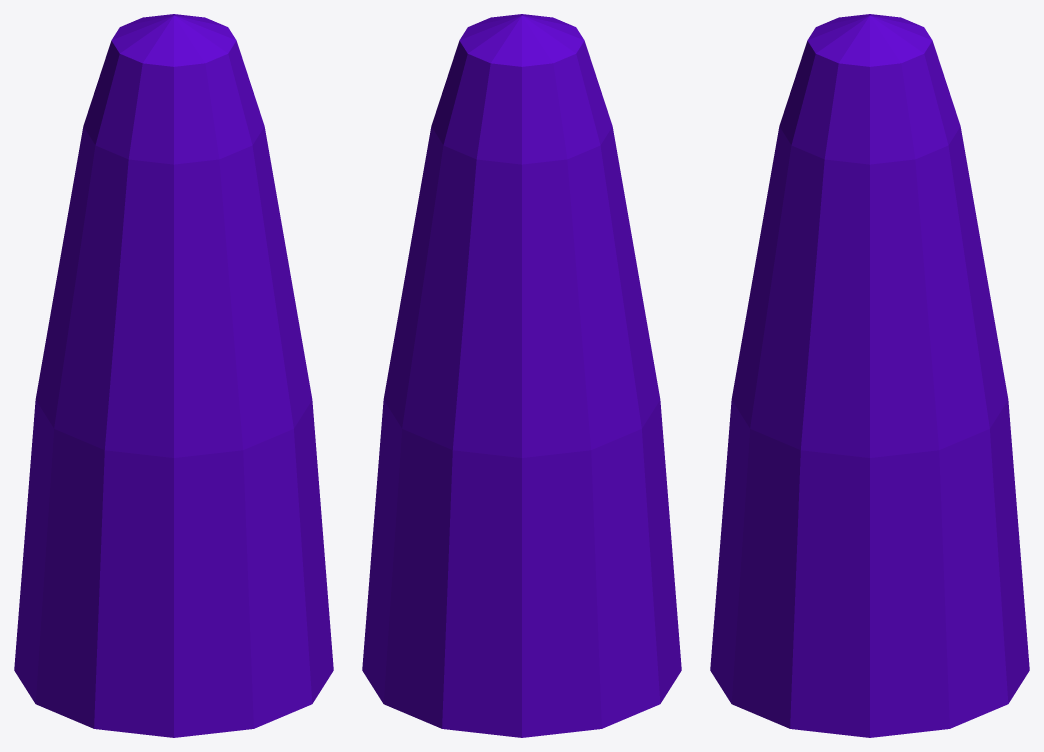
The model's file is Hat_Tall.FBX.
The picture shows the model from 3 angles, left to right: view 1: azimuth 30°, elevation 25°; view 2: azimuth 150°, elevation 25°; view 3: azimuth 270°, elevation 25°; orthographic projection.
Parts seen in each view (by area): view 1: TallTop_PH; view 2: TallTop_PH; view 3: TallTop_PH.
Part boxes in pixels (<box>): TallTop_PH: <box>14,14,333,737</box>; TallTop_PH: <box>362,14,681,737</box>; TallTop_PH: <box>710,14,1029,737</box>.
Size of the model in its own units: 200 by 452 by 200.
